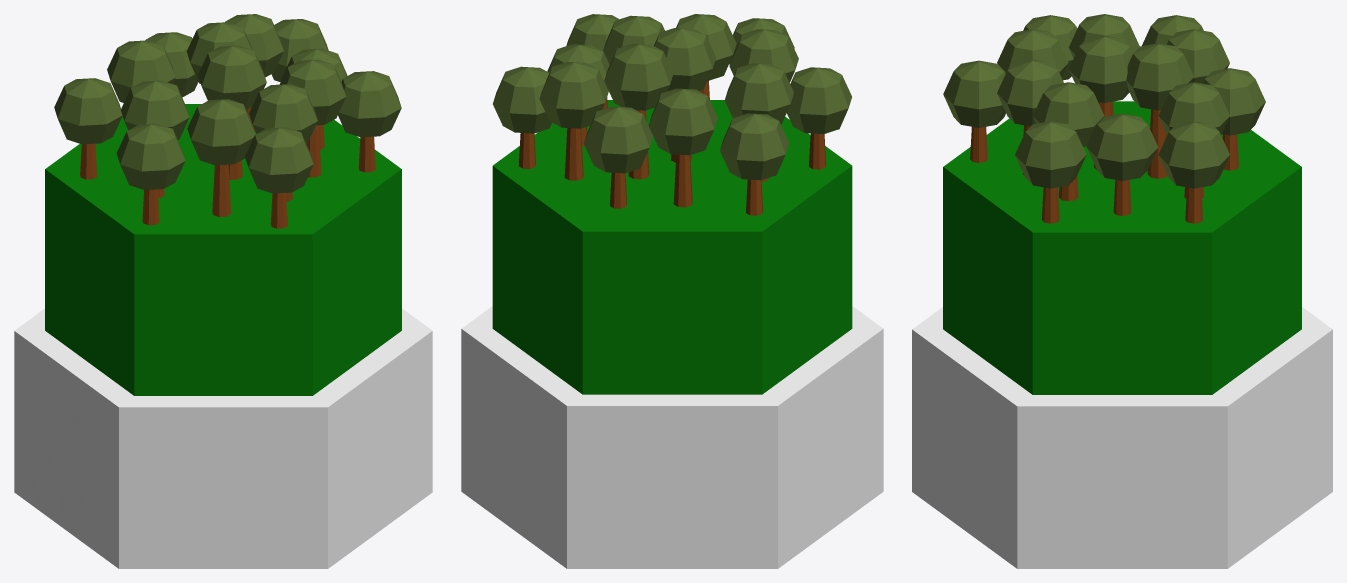
File: HexCellForest.fbx
3 views of the same model, side by side, from view 1: azimuth 30°, elevation 25°; view 2: azimuth 150°, elevation 25°; view 3: azimuth 270°, elevation 25° (orthographic).
Parts seen in each view (by area): view 1: Circle; view 2: Circle; view 3: Circle.
Part boxes in pixels (bbox=[...]): Circle: bbox=[14, 14, 432, 568]; Circle: bbox=[461, 14, 883, 568]; Circle: bbox=[912, 14, 1332, 568].
Size of the model in its own units: 203 by 280 by 235.
